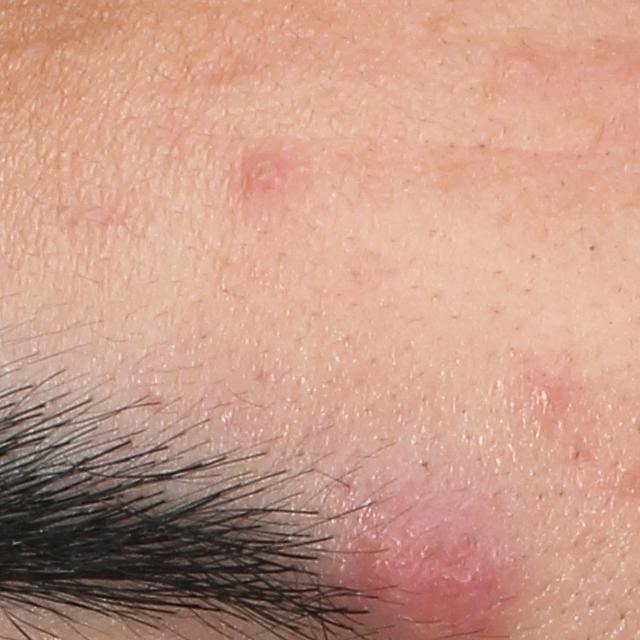papule: (239, 138, 296, 193), (505, 47, 540, 74)
